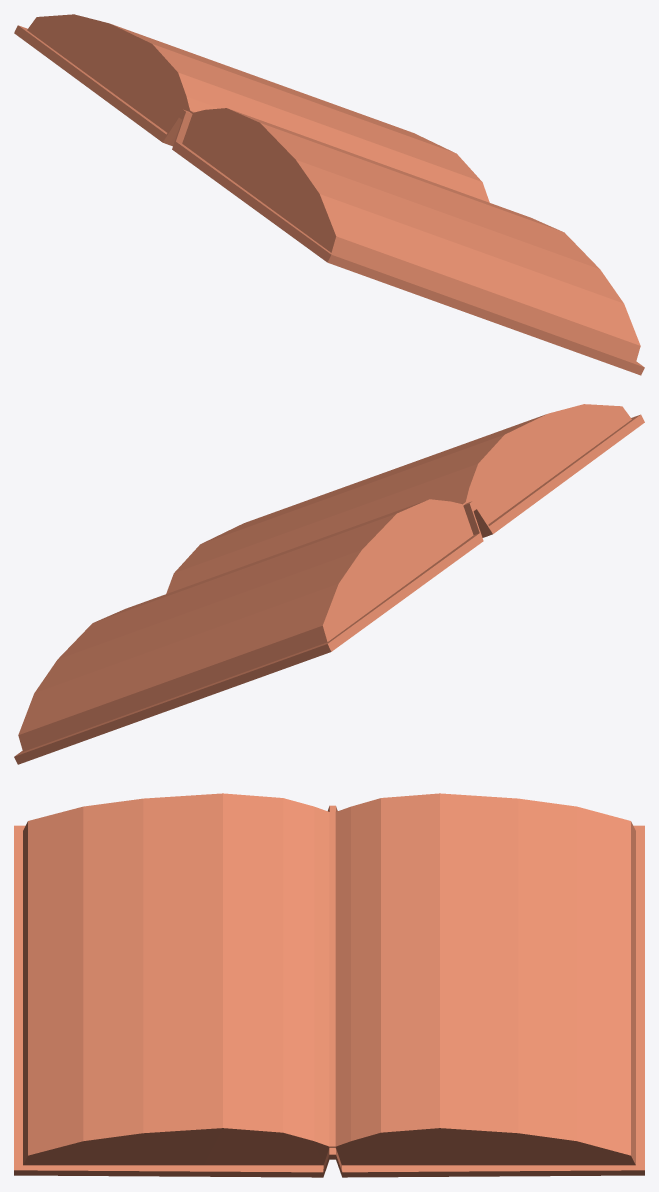
The model's file is RecipeBook.fbx.
3 renders of one model, top to bottom at view 1: azimuth 30°, elevation 25°; view 2: azimuth 150°, elevation 25°; view 3: azimuth 270°, elevation 25°, orthographic.
Visible parts, largest first — view 1: Book_Recipes; view 2: Book_Recipes; view 3: Book_Recipes.
Boxes of the visible parts, left/top/right/bottom form: Book_Recipes: left=14, top=14, right=644, bottom=375; Book_Recipes: left=14, top=404, right=644, bottom=764; Book_Recipes: left=14, top=793, right=644, bottom=1177.
Size of the model in its own units: 38.99 by 26.7 by 61.78.
